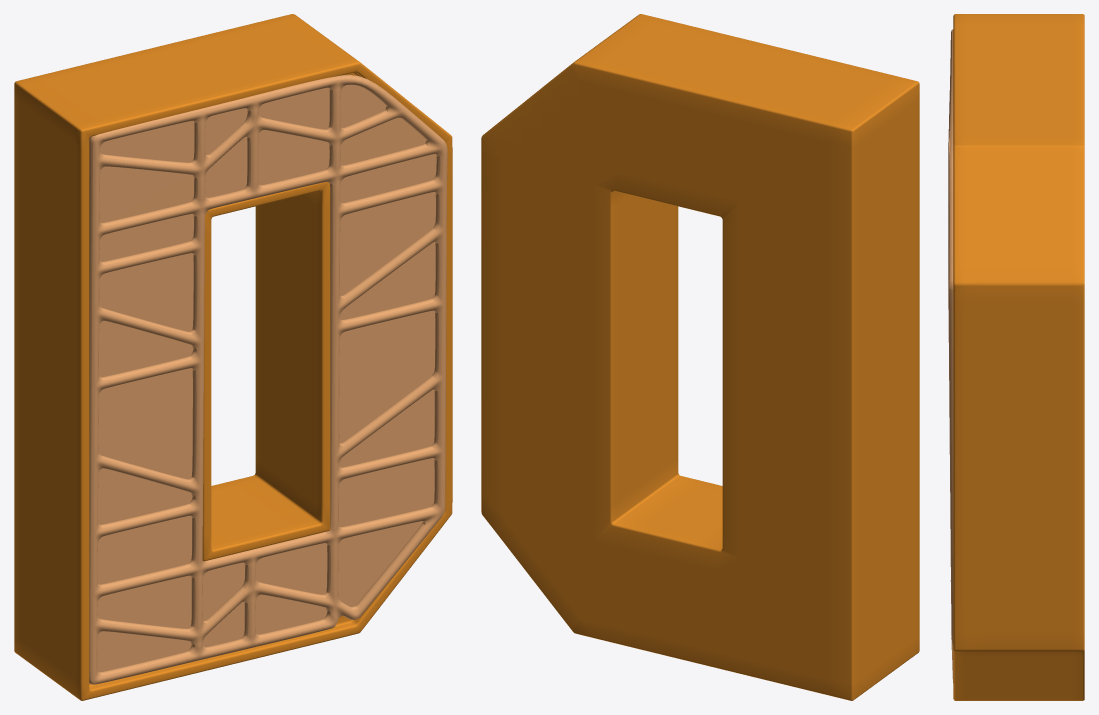
File: D_nuevo.glb
3 views of the same model, side by side, from view 1: azimuth 30°, elevation 25°; view 2: azimuth 150°, elevation 25°; view 3: azimuth 270°, elevation 25° (orthographic). The views are drawn at different scales.
Visible parts, largest first — view 1: Text.005, Plane.003, Plane.016; view 2: Text.005; view 3: Text.005, Plane.016.
Part boxes in pixels (<box>): Text.005: <box>14,14,452,700</box>; Plane.003: <box>97,85,436,672</box>; Plane.016: <box>89,74,447,684</box>; Text.005: <box>481,14,919,700</box>; Text.005: <box>953,14,1084,700</box>; Plane.016: <box>948,29,953,682</box>.
Bounding box in the file's own units: 2.17 × 3.18 × 0.7095.
